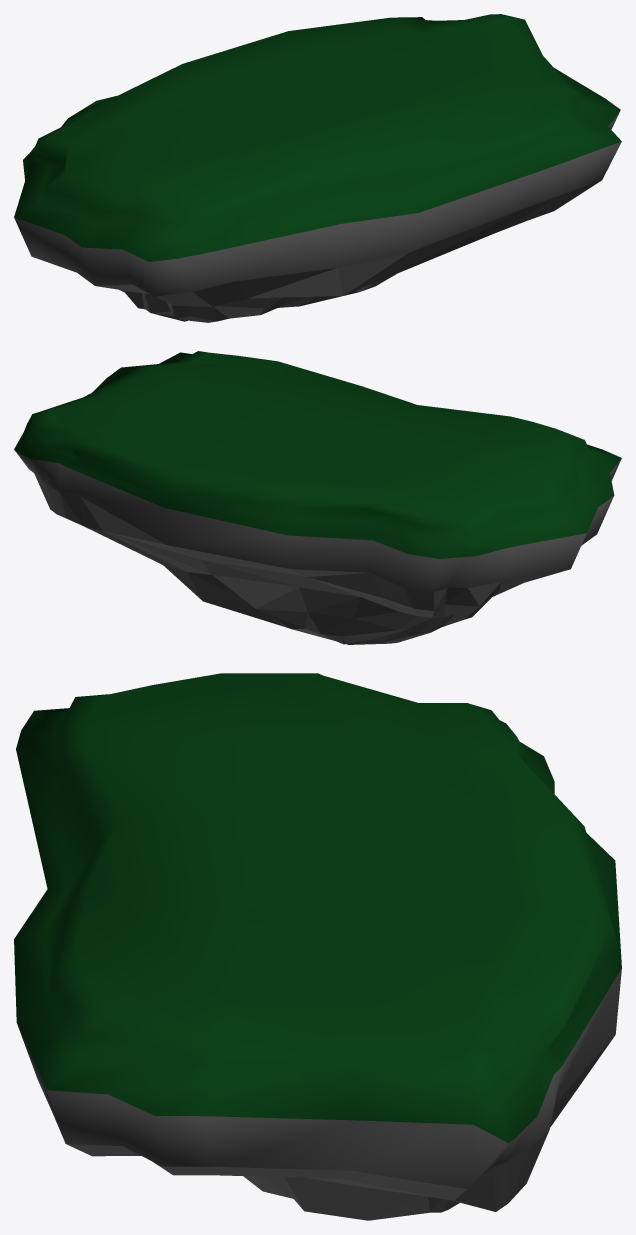
The model's file is Plataforma_2.FBX.
The picture shows the model from 3 angles, top to bottom: view 1: azimuth 30°, elevation 25°; view 2: azimuth 150°, elevation 25°; view 3: azimuth 270°, elevation 25°; orthographic projection. The views are drawn at different scales.
Visible parts, largest first — view 1: Box026; view 2: Box026; view 3: Box026.
Part boxes in pixels (left/top/right/bottom): Box026: left=14, top=14, right=621, bottom=322; Box026: left=14, top=351, right=621, bottom=644; Box026: left=14, top=673, right=621, bottom=1220.
Bounding box in the file's own units: 35.81 × 12.27 × 20.31.
